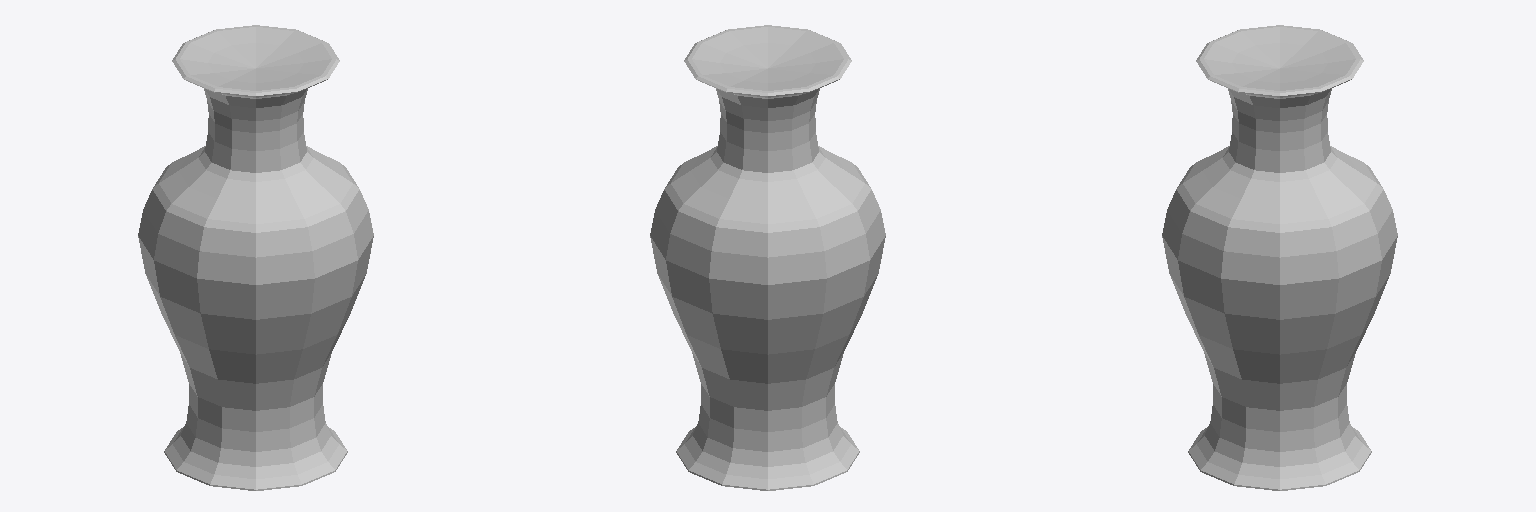
Rendered from vase_final.obj.
3 views of the same model, side by side, from view 1: azimuth 30°, elevation 25°; view 2: azimuth 150°, elevation 25°; view 3: azimuth 270°, elevation 25° (orthographic).
Visible parts, largest first — view 1: Line001; view 2: Line001; view 3: Line001.
Part boxes in pixels (x1,y1,x2,y2): Line001: (138,25,373,490); Line001: (650,25,885,490); Line001: (1162,25,1397,490).
Size of the model in its own units: 63.64 by 117 by 63.64.